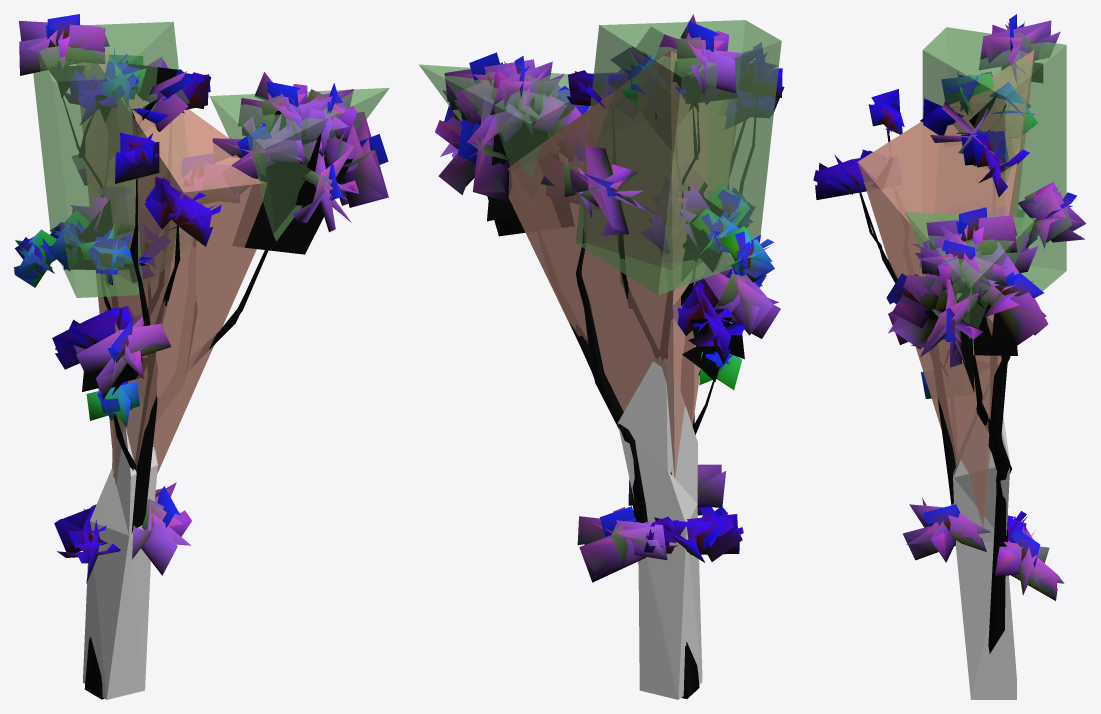
Rendered from holm_oak_filler_1.dae.
3 renders of one model, left to right at view 1: azimuth 30°, elevation 25°; view 2: azimuth 150°, elevation 25°; view 3: azimuth 270°, elevation 25°, orthographic. The views are drawn at different scales.
Visible parts, largest first — view 1: Colmesh-1, holm_oak_filler_1_b2000, holm_oak_filler_1_b400; view 2: Colmesh-1, holm_oak_filler_1_b2000, holm_oak_filler_1_b400; view 3: Colmesh-1, holm_oak_filler_1_b2000, holm_oak_filler_1_b400.
Part boxes in pixels (box(x1,y1,x2,y2)): Colmesh-1: box(33, 21, 389, 699); holm_oak_filler_1_b2000: box(14, 14, 388, 699); holm_oak_filler_1_b400: box(15, 20, 388, 699); Colmesh-1: box(418, 20, 781, 699); holm_oak_filler_1_b2000: box(435, 14, 782, 698); holm_oak_filler_1_b400: box(439, 15, 784, 698); Colmesh-1: box(857, 27, 1066, 699); holm_oak_filler_1_b2000: box(813, 14, 1085, 600); holm_oak_filler_1_b400: box(816, 14, 1085, 653).
Bounding box in the file's own units: 9.22 × 6.18 × 16.32.
